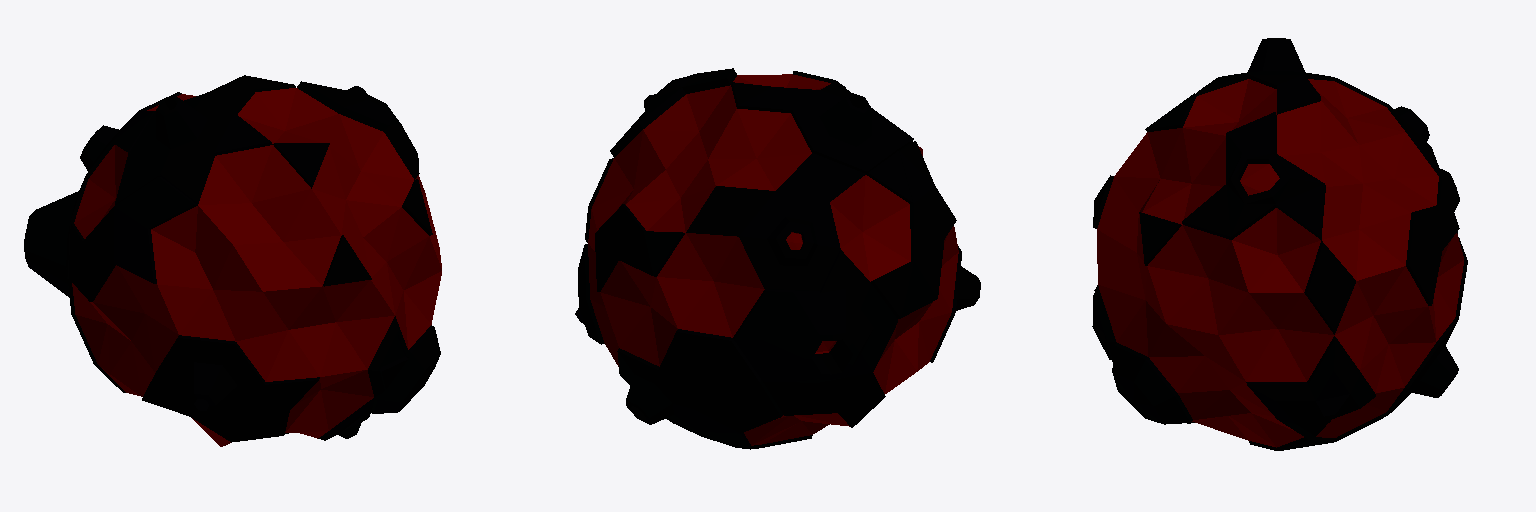
Rendered from Verasten.obj.
3 views of the same model, side by side, from view 1: azimuth 30°, elevation 25°; view 2: azimuth 150°, elevation 25°; view 3: azimuth 270°, elevation 25° (orthographic).
Visible parts, largest first — view 1: Icosphere.005_Icosphere.012; view 2: Icosphere.005_Icosphere.012; view 3: Icosphere.005_Icosphere.012.
Part boxes in pixels (left/top/right/bottom): Icosphere.005_Icosphere.012: left=24, top=75, right=441, bottom=446; Icosphere.005_Icosphere.012: left=575, top=68, right=980, bottom=449; Icosphere.005_Icosphere.012: left=1092, top=38, right=1467, bottom=450.
Bounding box in the file's own units: 139 × 141 × 134.